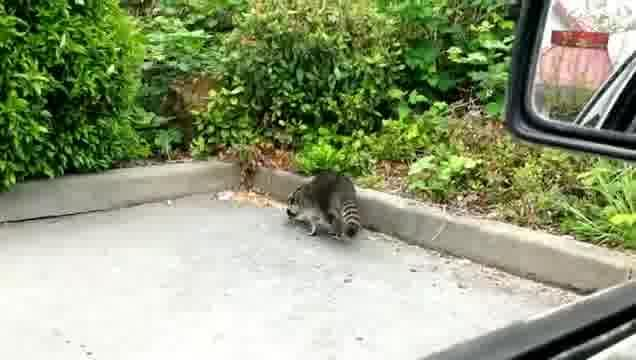raccoon: (285, 171, 360, 240)
